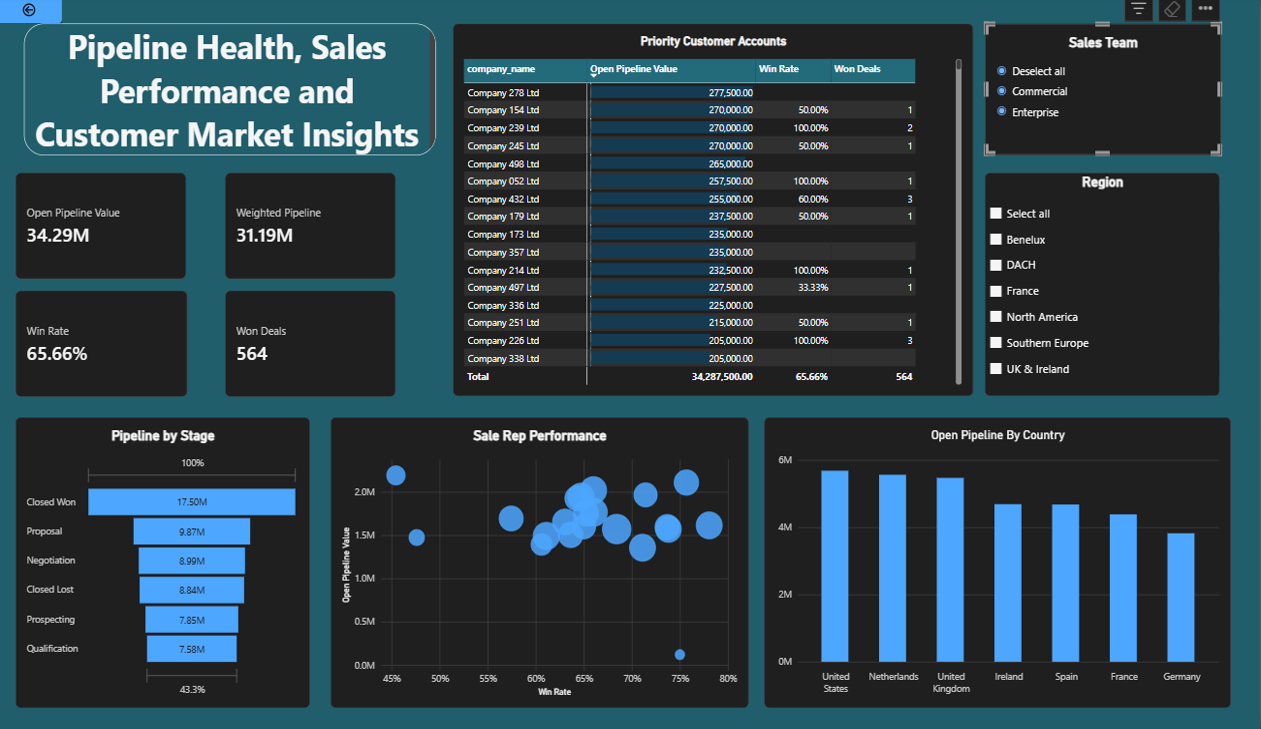

What the dashboard file says about the page in this screenshot:
{"tool":"powerbi","page":{"name":"Sales & Customers","canvas":[1920,1080],"ordinal":1},"visuals":[{"type":"cardVisual","fields":{"Data":["analytics fct_opportunities.Weighted Pipeline"]},"box":[347.9,259.3,259.3,156.4],"z":0},{"type":"cardVisual","fields":{"Data":["analytics fct_opportunities.Open Pipeline Value"]},"box":[28.8,259.3,259.3,156.4],"z":1000},{"type":"textbox","box":[43.2,41.2,625.7,193.5],"z":2000},{"type":"cardVisual","fields":{"Data":["analytics fct_opportunities.Win Rate"]},"box":[28.8,432.2,261.4,156.4],"z":3000},{"type":"cardVisual","fields":{"Data":["analytics fct_opportunities.Won Deals"]},"box":[347.9,432.2,259.3,156.4],"z":4000},{"type":"funnel","title":"Pipeline by Stage","fields":{"Category":["analytics fct_opportunities.stage"],"Y":["analytics fct_opportunities.Total Pipeline Value"]},"box":[29.4,618.4,447.2,427],"z":5000},{"type":"scatterChart","title":"Sale Rep Performance","fields":{"Category":["analytics dim_sales_reps.sales_rep_name"],"Size":["analytics fct_opportunities.Won Deals"],"X":["analytics fct_opportunities.Win Rate"],"Y":["analytics fct_opportunities.Open Pipeline Value"]},"box":[508,618.4,635,427],"z":6000},{"type":"clusteredColumnChart","title":"Open Pipeline By Country","fields":{"Category":["analytics dim_customers.country"],"Y":["analytics fct_opportunities.Open Pipeline Value"]},"box":[1166.9,618.4,708.6,427],"z":7000},{"type":"pivotTable","title":"Priority Customer Accounts","fields":{"Rows":["analytics dim_customers.company_name"],"Values":["analytics fct_opportunities.Open Pipeline Value","analytics fct_opportunities.Win Rate","analytics fct_opportunities.Won Deals"]},"box":[693.7,41.2,790.4,547.5],"z":8000},{"type":"actionButton","box":[0,0,100,40],"z":9000},{"type":"listSlicer","title":"Sales Team","fields":{"Values":["analytics dim_sales_reps.sales_team"]},"box":[1501.8,40.5,358.9,193.3],"z":10000},{"type":"slicer","title":"Region","fields":{"Values":["analytics dim_sales_reps.region"]},"box":[1501.8,259.5,357.1,327.6],"z":10001}]}

Visuals, with their boxes on the page's 1920x1080 design canvas (x1, y1, x2, y2). These are canvas units, not pixel positions in the 1261x729 screenshot, which may show the page scaled, cropped or inside an application window:
cardVisual - analytics fct_opportunities.Weighted Pipeline: (left=348, top=259, right=607, bottom=416)
cardVisual - analytics fct_opportunities.Open Pipeline Value: (left=29, top=259, right=288, bottom=416)
textbox: (left=43, top=41, right=669, bottom=235)
cardVisual - analytics fct_opportunities.Win Rate: (left=29, top=432, right=290, bottom=589)
cardVisual - analytics fct_opportunities.Won Deals: (left=348, top=432, right=607, bottom=589)
"Pipeline by Stage" funnel: (left=29, top=618, right=477, bottom=1045)
"Sale Rep Performance" scatterChart: (left=508, top=618, right=1143, bottom=1045)
"Open Pipeline By Country" clusteredColumnChart: (left=1167, top=618, right=1876, bottom=1045)
"Priority Customer Accounts" pivotTable: (left=694, top=41, right=1484, bottom=589)
actionButton: (left=0, top=0, right=100, bottom=40)
"Sales Team" listSlicer: (left=1502, top=40, right=1861, bottom=234)
"Region" slicer: (left=1502, top=260, right=1859, bottom=587)
